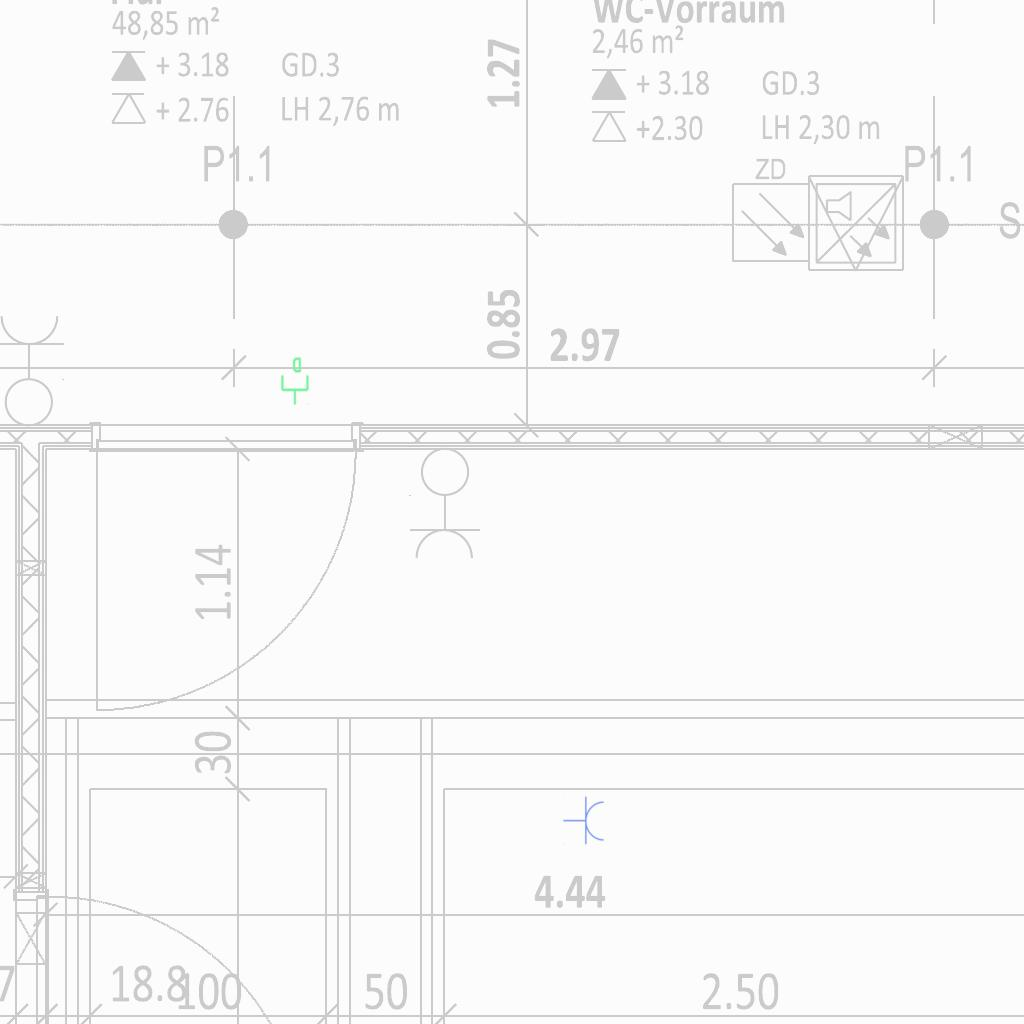Datenanschluss_einfach: (277, 356, 311, 406)
Schukosteckdose_einfach: (563, 796, 606, 846)
